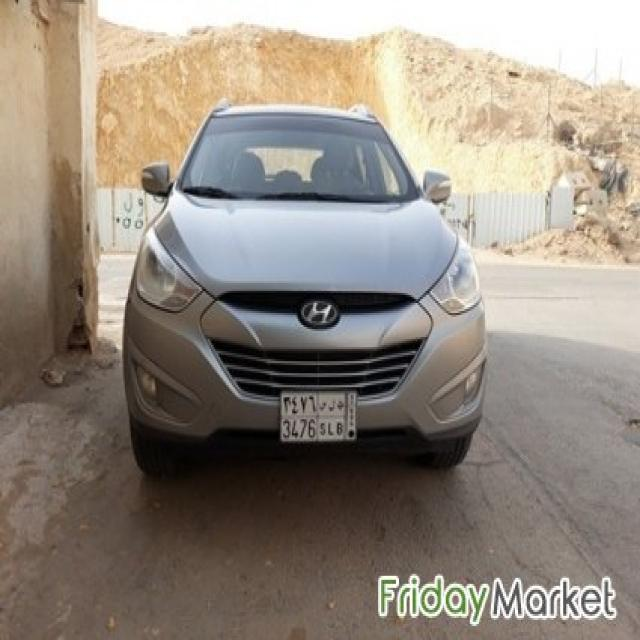license_plate: (278, 388, 358, 448)
